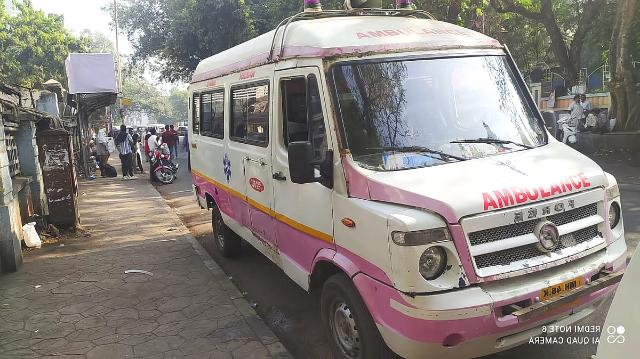ambulance: (185, 16, 629, 358)
